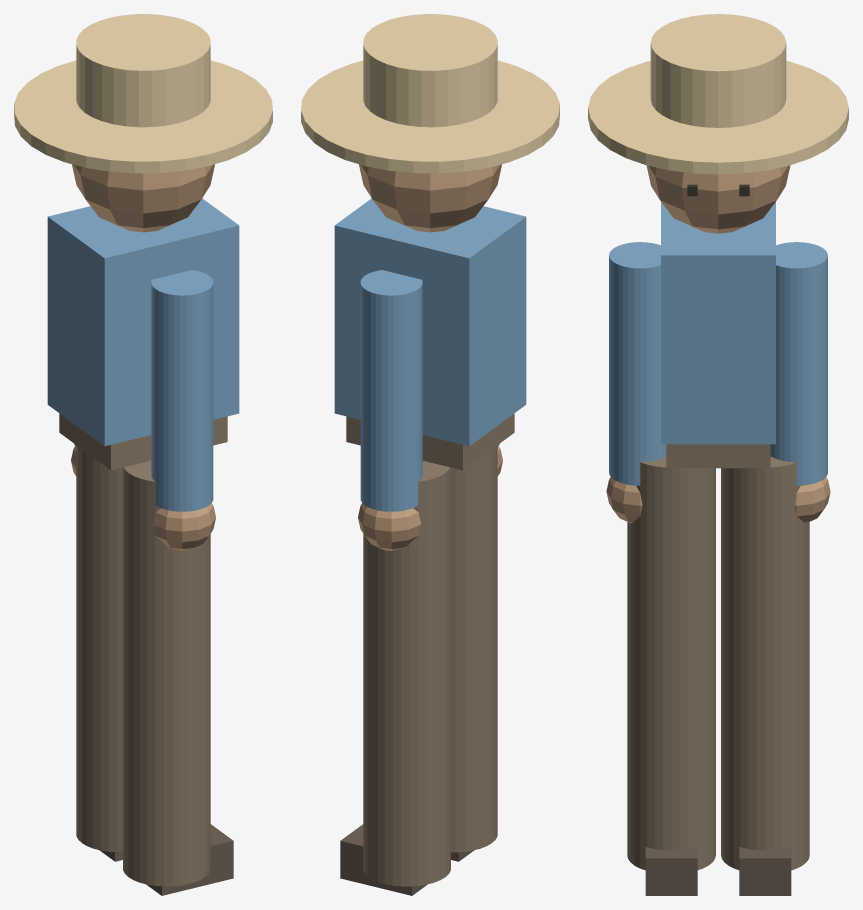
The model's file is chico.glb.
3 renders of one model, left to right at view 1: azimuth 30°, elevation 25°; view 2: azimuth 150°, elevation 25°; view 3: azimuth 270°, elevation 25°, orthographic.
Visible parts, largest first — view 1: PernaD, Tronco, PernaE, ChapeuAba, BracoD, ChapeuCopa, Cabeca, Cintura, MaoD, BotaD; view 2: PernaE, Tronco, PernaD, ChapeuAba, BracoE, ChapeuCopa, Cabeca, Cintura, MaoE, BotaE; view 3: PernaD, PernaE, Tronco, ChapeuAba, ChapeuCopa, BracoD, BracoE, Cabeca, Cintura, BotaD, BotaE, MaoD (+1 smaller).
Boxes of the visible parts, x1=… form: PernaD: x1=123, y1=461, x2=210, y2=886; Tronco: x1=47, y1=198, x2=239, y2=446; PernaE: x1=76, y1=445, x2=122, y2=852; ChapeuAba: x1=14, y1=60, x2=272, y2=173; BracoD: x1=151, y1=270, x2=213, y2=511; ChapeuCopa: x1=76, y1=14, x2=210, y2=127; Cabeca: x1=72, y1=164, x2=214, y2=232; Cintura: x1=59, y1=413, x2=227, y2=470; MaoD: x1=152, y1=503, x2=215, y2=550; BotaD: x1=146, y1=824, x2=233, y2=895; PernaE: x1=363, y1=461, x2=450, y2=886; Tronco: x1=334, y1=198, x2=526, y2=446; PernaD: x1=451, y1=445, x2=497, y2=852; ChapeuAba: x1=301, y1=60, x2=559, y2=173; BracoE: x1=360, y1=270, x2=422, y2=511; ChapeuCopa: x1=363, y1=14, x2=497, y2=127; Cabeca: x1=359, y1=164, x2=501, y2=232; Cintura: x1=346, y1=413, x2=514, y2=470; MaoE: x1=358, y1=503, x2=421, y2=550; BotaE: x1=340, y1=824, x2=427, y2=895; PernaD: x1=627, y1=456, x2=715, y2=870; PernaE: x1=721, y1=456, x2=809, y2=870; Tronco: x1=661, y1=202, x2=775, y2=444; ChapeuAba: x1=588, y1=61, x2=848, y2=174; ChapeuCopa: x1=650, y1=14, x2=786, y2=127; BracoD: x1=609, y1=242, x2=666, y2=485; BracoE: x1=770, y1=242, x2=827, y2=485; Cabeca: x1=646, y1=165, x2=790, y2=233; Cintura: x1=666, y1=444, x2=770, y2=468; BotaD: x1=645, y1=847, x2=697, y2=895; BotaE: x1=739, y1=847, x2=791, y2=895; MaoD: x1=606, y1=477, x2=642, y2=522.
Bounding box in the file's own units: 0.5 × 1.75 × 0.5.
